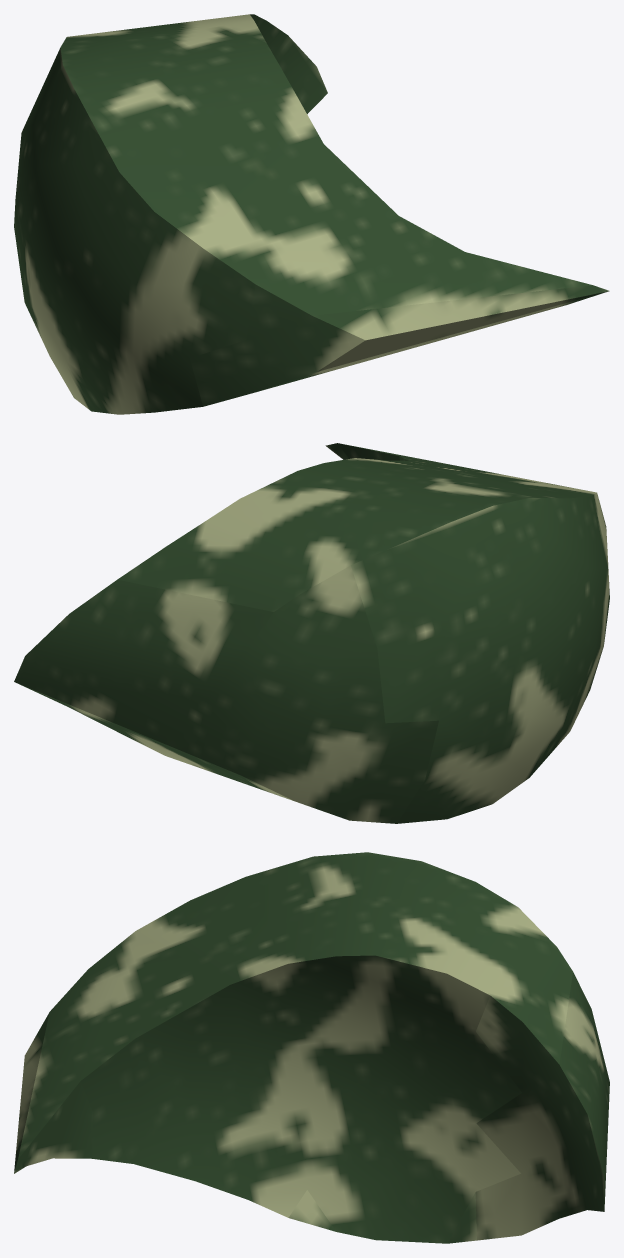
File: link_body_25_composite.obj
The picture shows the model from 3 angles, top to bottom: view 1: azimuth 30°, elevation 25°; view 2: azimuth 150°, elevation 25°; view 3: azimuth 270°, elevation 25°; orthographic projection. The views are drawn at different scales.
Visible parts, largest first — view 1: link_body_25; view 2: link_body_25; view 3: link_body_25.
Part boxes in pixels (left/top/right/bottom): link_body_25: left=14, top=14, right=609, bottom=414; link_body_25: left=14, top=443, right=609, bottom=823; link_body_25: left=14, top=852, right=609, bottom=1243.
Size of the model in its own units: 8.47 by 5.89 by 10.52.
1 material, 1 textured.
